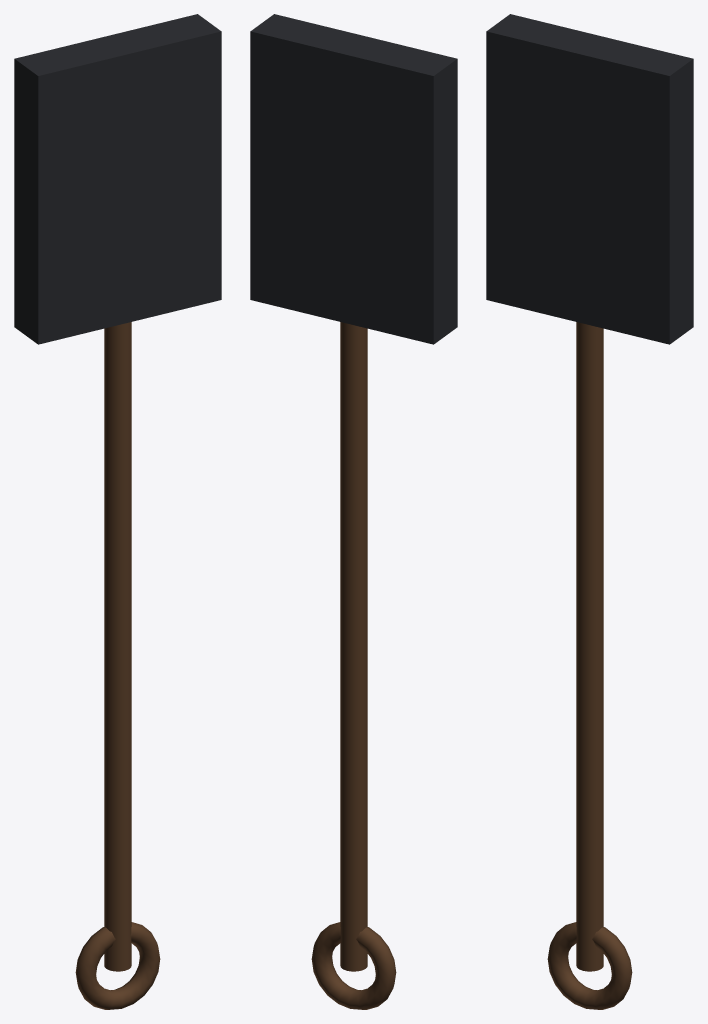
Rendered from weapon_coal_shovel.glb.
The picture shows the model from 3 angles, left to right: view 1: azimuth 30°, elevation 25°; view 2: azimuth 150°, elevation 25°; view 3: azimuth 330°, elevation 25°; orthographic projection.
Visible parts, largest first — view 1: Shovel_Scoop_Blade, Handle_Grip_Shaft, Stokers_Coal_Shovel; view 2: Shovel_Scoop_Blade, Handle_Grip_Shaft, Stokers_Coal_Shovel; view 3: Shovel_Scoop_Blade, Handle_Grip_Shaft, Stokers_Coal_Shovel.
Boxes of the visible parts, box(x1,y1,x2,y2) form: Shovel_Scoop_Blade: box(14, 14, 221, 344); Handle_Grip_Shaft: box(104, 322, 131, 971); Stokers_Coal_Shovel: box(75, 922, 160, 1009); Shovel_Scoop_Blade: box(250, 14, 457, 344); Handle_Grip_Shaft: box(340, 322, 367, 971); Stokers_Coal_Shovel: box(311, 922, 396, 1009); Shovel_Scoop_Blade: box(486, 14, 693, 344); Handle_Grip_Shaft: box(576, 322, 603, 971); Stokers_Coal_Shovel: box(547, 922, 632, 1009).
Bounding box in the file's own units: 0.2 × 1.01 × 0.045.
